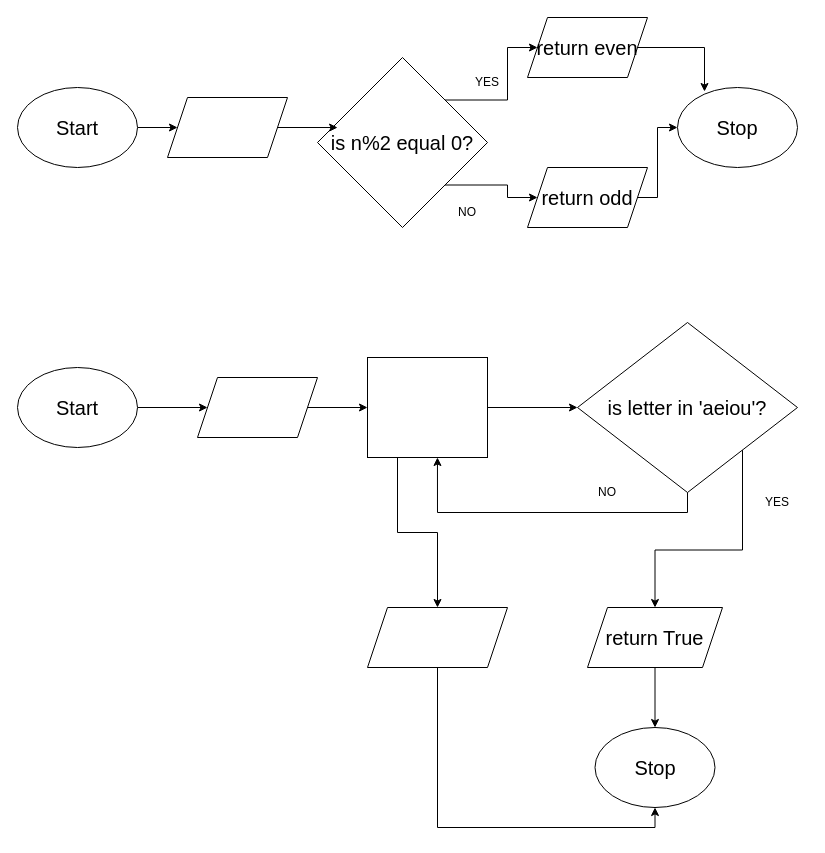
This 825x853 diagram has some shape labels left out. Here are the shapes that lost their labels. From the top down, the centre of each, then its label:
At pixel 227 127: "take n".
At pixel 257 407: "take word".
At pixel 427 407: "loop through letters of word".
At pixel 437 637: "return False".
